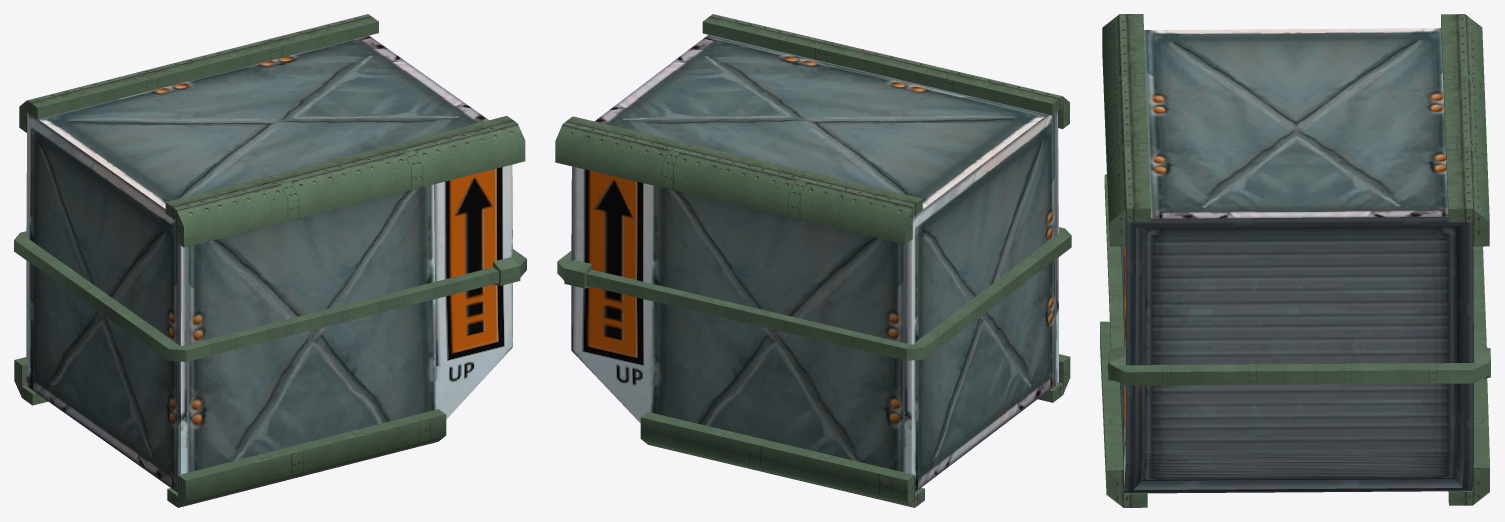
3 renders of one model, left to right at view 1: azimuth 30°, elevation 25°; view 2: azimuth 150°, elevation 25°; view 3: azimuth 270°, elevation 25°, orthographic. The views are drawn at different scales.
Visible parts, largest first — view 1: node_id33, node_id35; view 2: node_id33, node_id35; view 3: node_id33, node_id35.
Part boxes in pixels (<box>): node_id33: <box>26,35,512,492</box>; node_id35: <box>14,14,526,507</box>; node_id33: <box>571,35,1058,491</box>; node_id35: <box>555,14,1071,507</box>; node_id33: <box>1120,28,1473,493</box>; node_id35: <box>1100,14,1490,507</box>.
Size of the model in its own units: 0.512 by 0.3987 by 0.4099.
2 materials, 2 textured.
